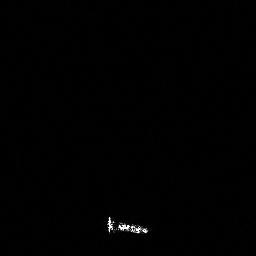ship: (106, 216, 150, 234)
